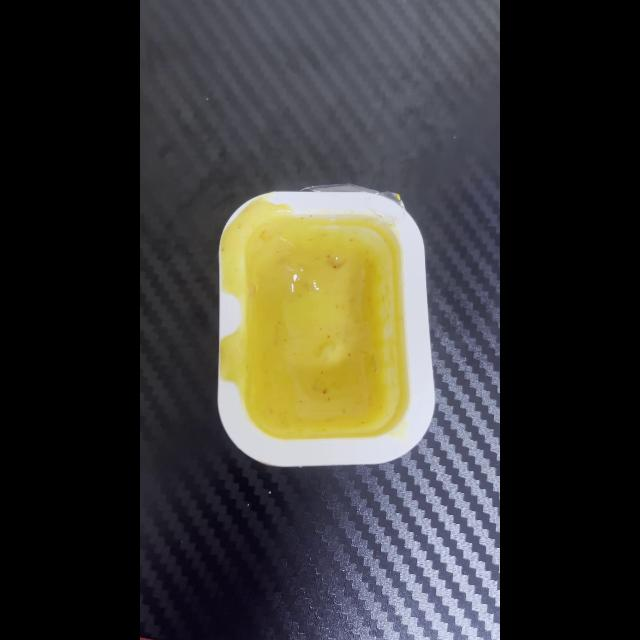dirty: (218, 191, 434, 463)
